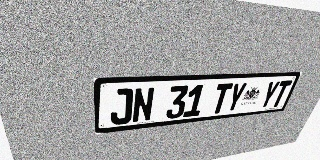1: (183, 84, 207, 117)
3: (165, 85, 189, 119)
J: (110, 88, 133, 126)
N: (132, 87, 155, 123)
T: (210, 83, 233, 114), (270, 80, 293, 107)
Y: (224, 82, 248, 113), (258, 81, 281, 109)
